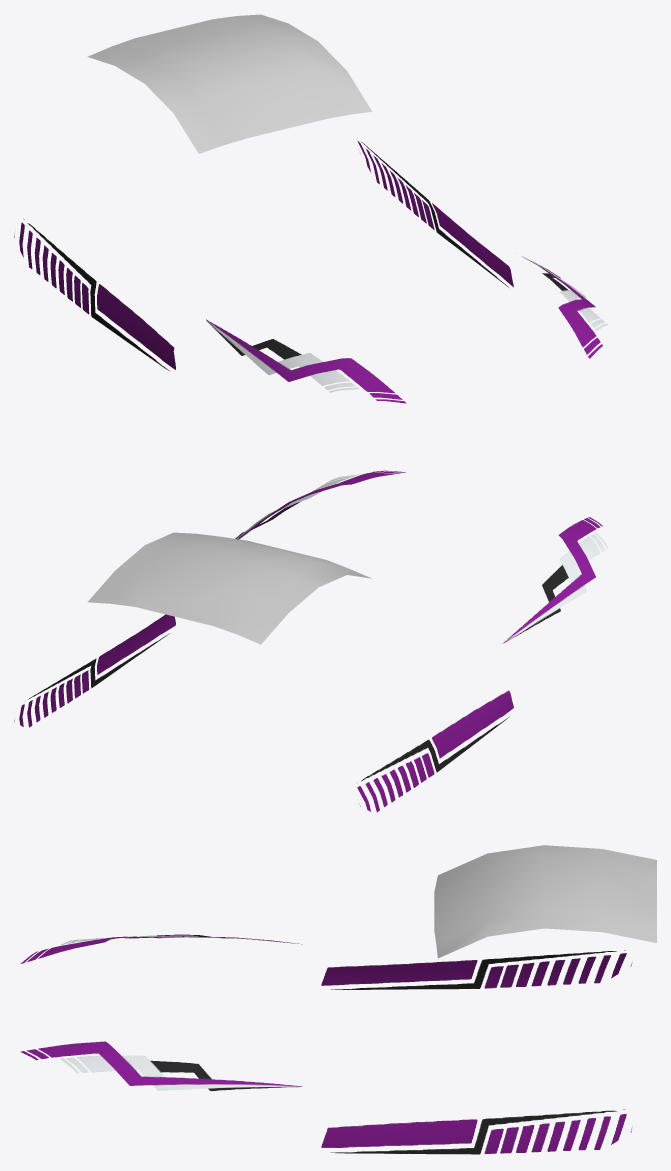
File: Car_07_Decals.fbx
3 renders of one model, top to bottom at view 1: azimuth 30°, elevation 25°; view 2: azimuth 150°, elevation 25°; view 3: azimuth 270°, elevation 25°, orthographic.
Parts seen in each view (by area): view 1: Car_07_Decals; view 2: Car_07_Decals; view 3: Car_07_Decals.
Part boxes in pixels (x1=…): Car_07_Decals: x1=14, y1=14, x2=607, y2=403; Car_07_Decals: x1=14, y1=470, x2=608, y2=812; Car_07_Decals: x1=20, y1=845, x2=656, y2=1154.
Bounding box in the file's own units: 146 × 238 × 79.04.
